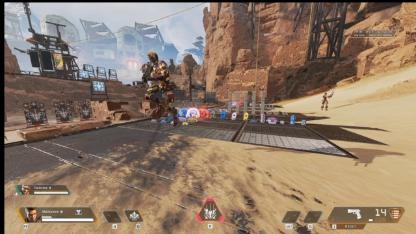Target: (142, 50, 176, 124)
